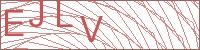E: (3, 7, 25, 37)
J: (27, 1, 44, 28)
L: (54, 1, 78, 29)
V: (79, 15, 103, 43)
